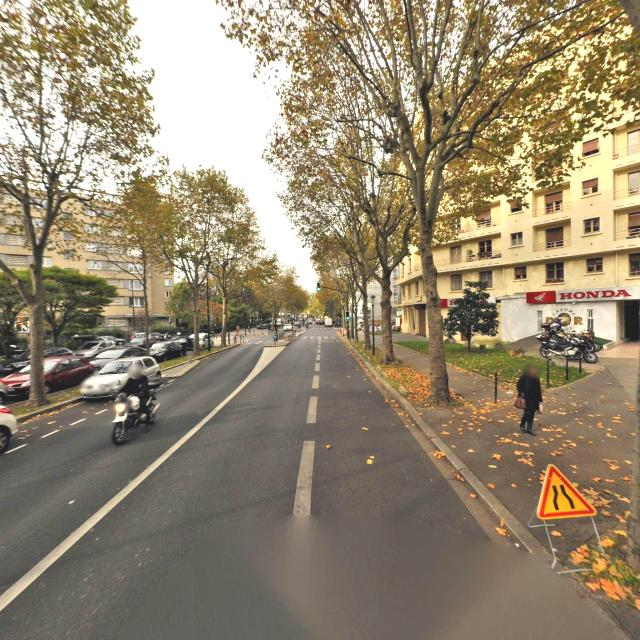bike: (110, 367, 163, 446)
car: (79, 353, 161, 402), (1, 355, 92, 398), (0, 391, 19, 459), (148, 338, 187, 362), (73, 339, 117, 359), (130, 332, 158, 347), (283, 322, 294, 332), (324, 317, 333, 327), (294, 320, 302, 329), (315, 318, 323, 324)
